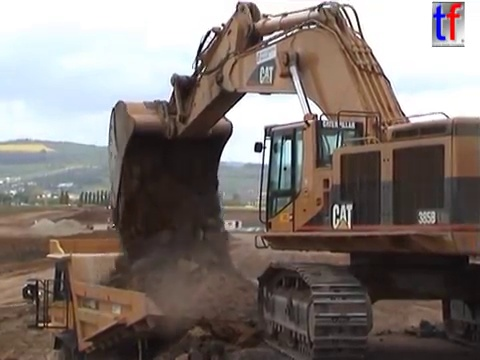excavator: (105, 1, 480, 360), (105, 215, 140, 236)
truck: (20, 234, 276, 360)
